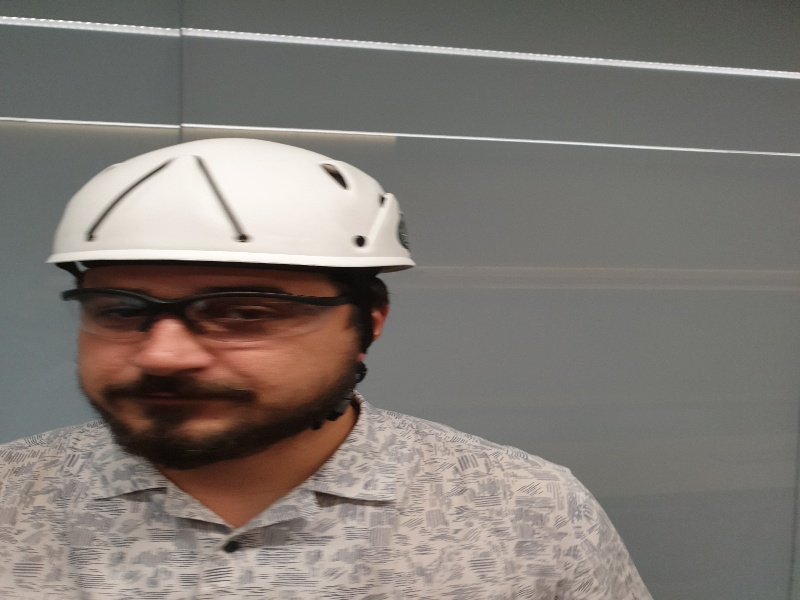Baret: (50, 138, 418, 278)
Gozluk: (65, 288, 362, 347)
